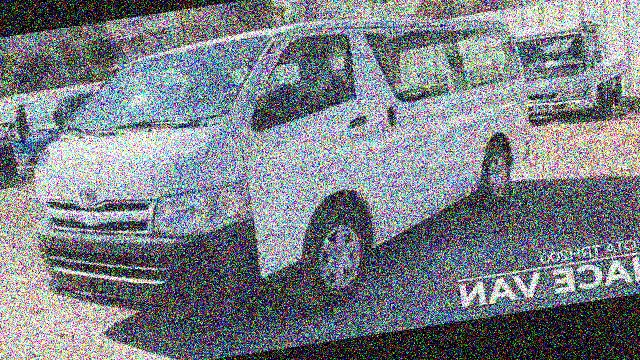van: (9, 0, 558, 343)
